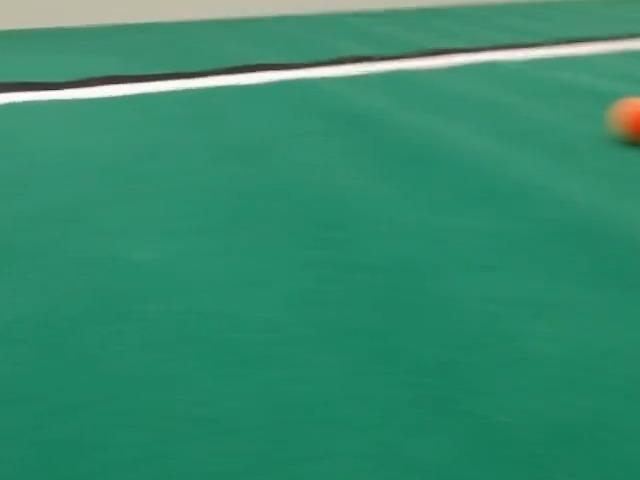Ball: (606, 97, 640, 145)
